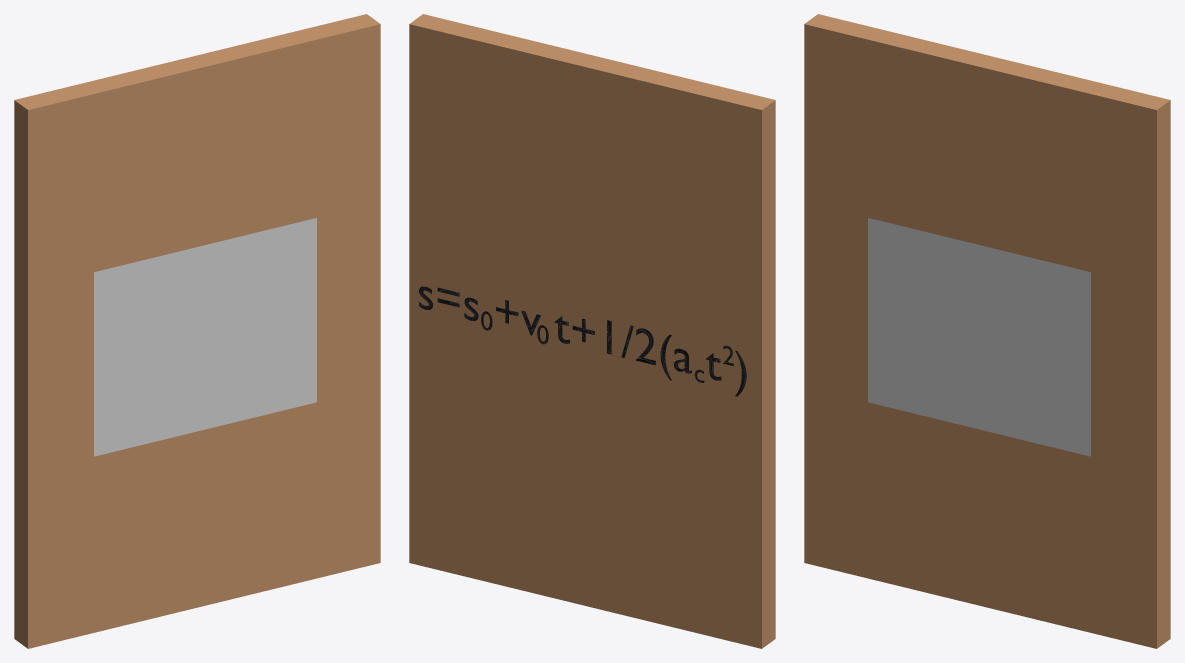
File: CARTA10B.obj
3 renders of one model, left to right at view 1: azimuth 30°, elevation 25°; view 2: azimuth 150°, elevation 25°; view 3: azimuth 330°, elevation 25°, orthographic.
Visible parts, largest first — view 1: Cube; view 2: Cube; view 3: Cube.
Part boxes in pixels (x1=…): Cube: x1=14, y1=14, x2=380, y2=648; Cube: x1=409, y1=14, x2=775, y2=648; Cube: x1=804, y1=14, x2=1170, y2=648.
Size of the model in its own units: 2 by 2.92 by 0.1639.
Materials: 5 (4 with a texture image).
